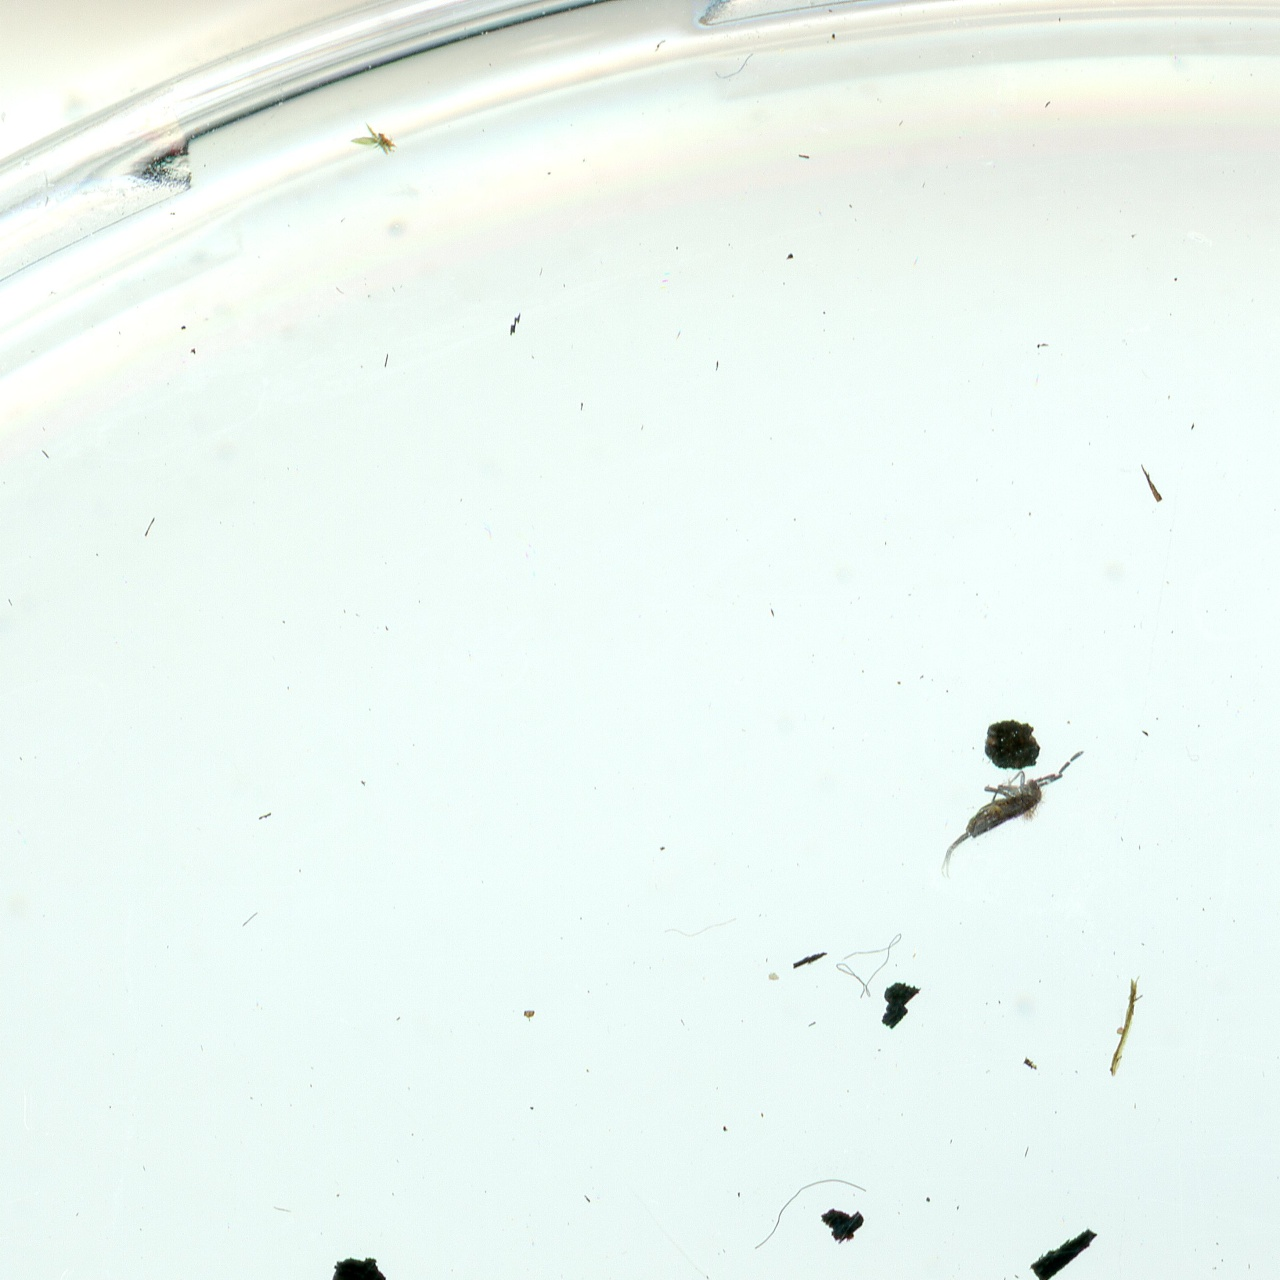arthropod: (910, 722, 1107, 890)
